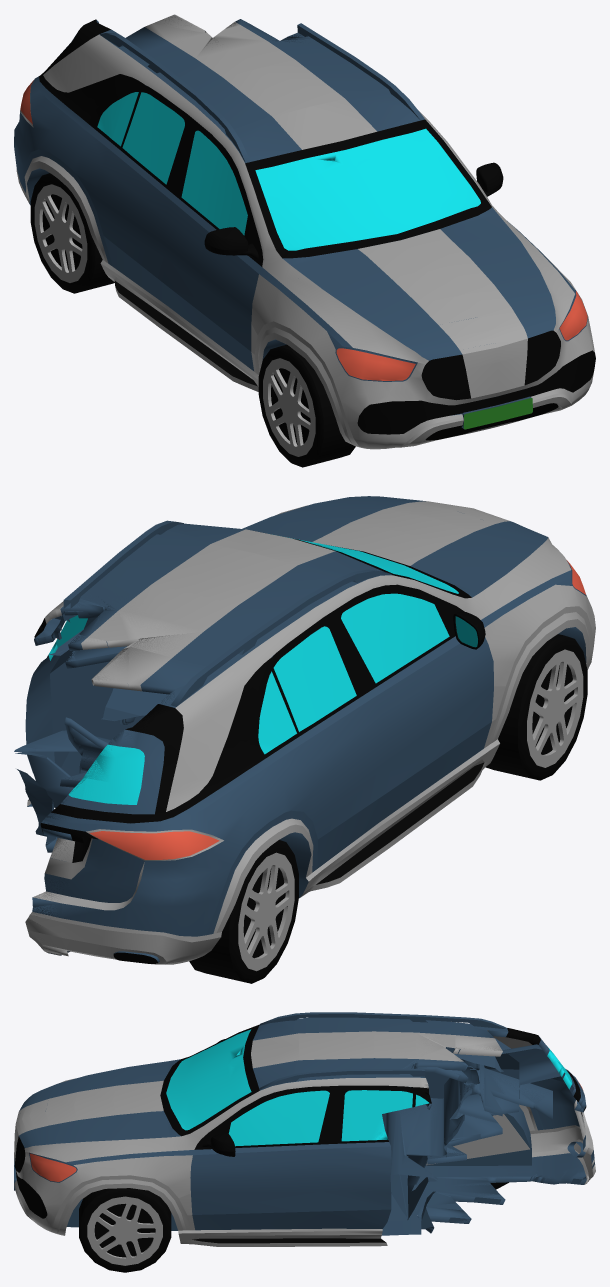
The model's file is familycarcrush.fbx.
3 renders of one model, top to bottom at view 1: azimuth 30°, elevation 25°; view 2: azimuth 150°, elevation 25°; view 3: azimuth 270°, elevation 25°, orthographic. The views are drawn at different scales.
Parts seen in each view (by area): view 1: Body.001, on_teker, arka_teker; view 2: Body.001, on_teker, arka_teker; view 3: Body.001, on_teker.
Boxes of the visible parts, x1,y1,x2,y2 form: Body.001: (14,14,595,449); on_teker: (258,344,355,467); arka_teker: (30,173,114,293); Body.001: (14,496,595,964); on_teker: (485,634,587,780); arka_teker: (189,840,298,983); Body.001: (14,1012,595,1246); on_teker: (79,1188,171,1272).
Size of the model in its own units: 3416 by 2713 by 7772.
